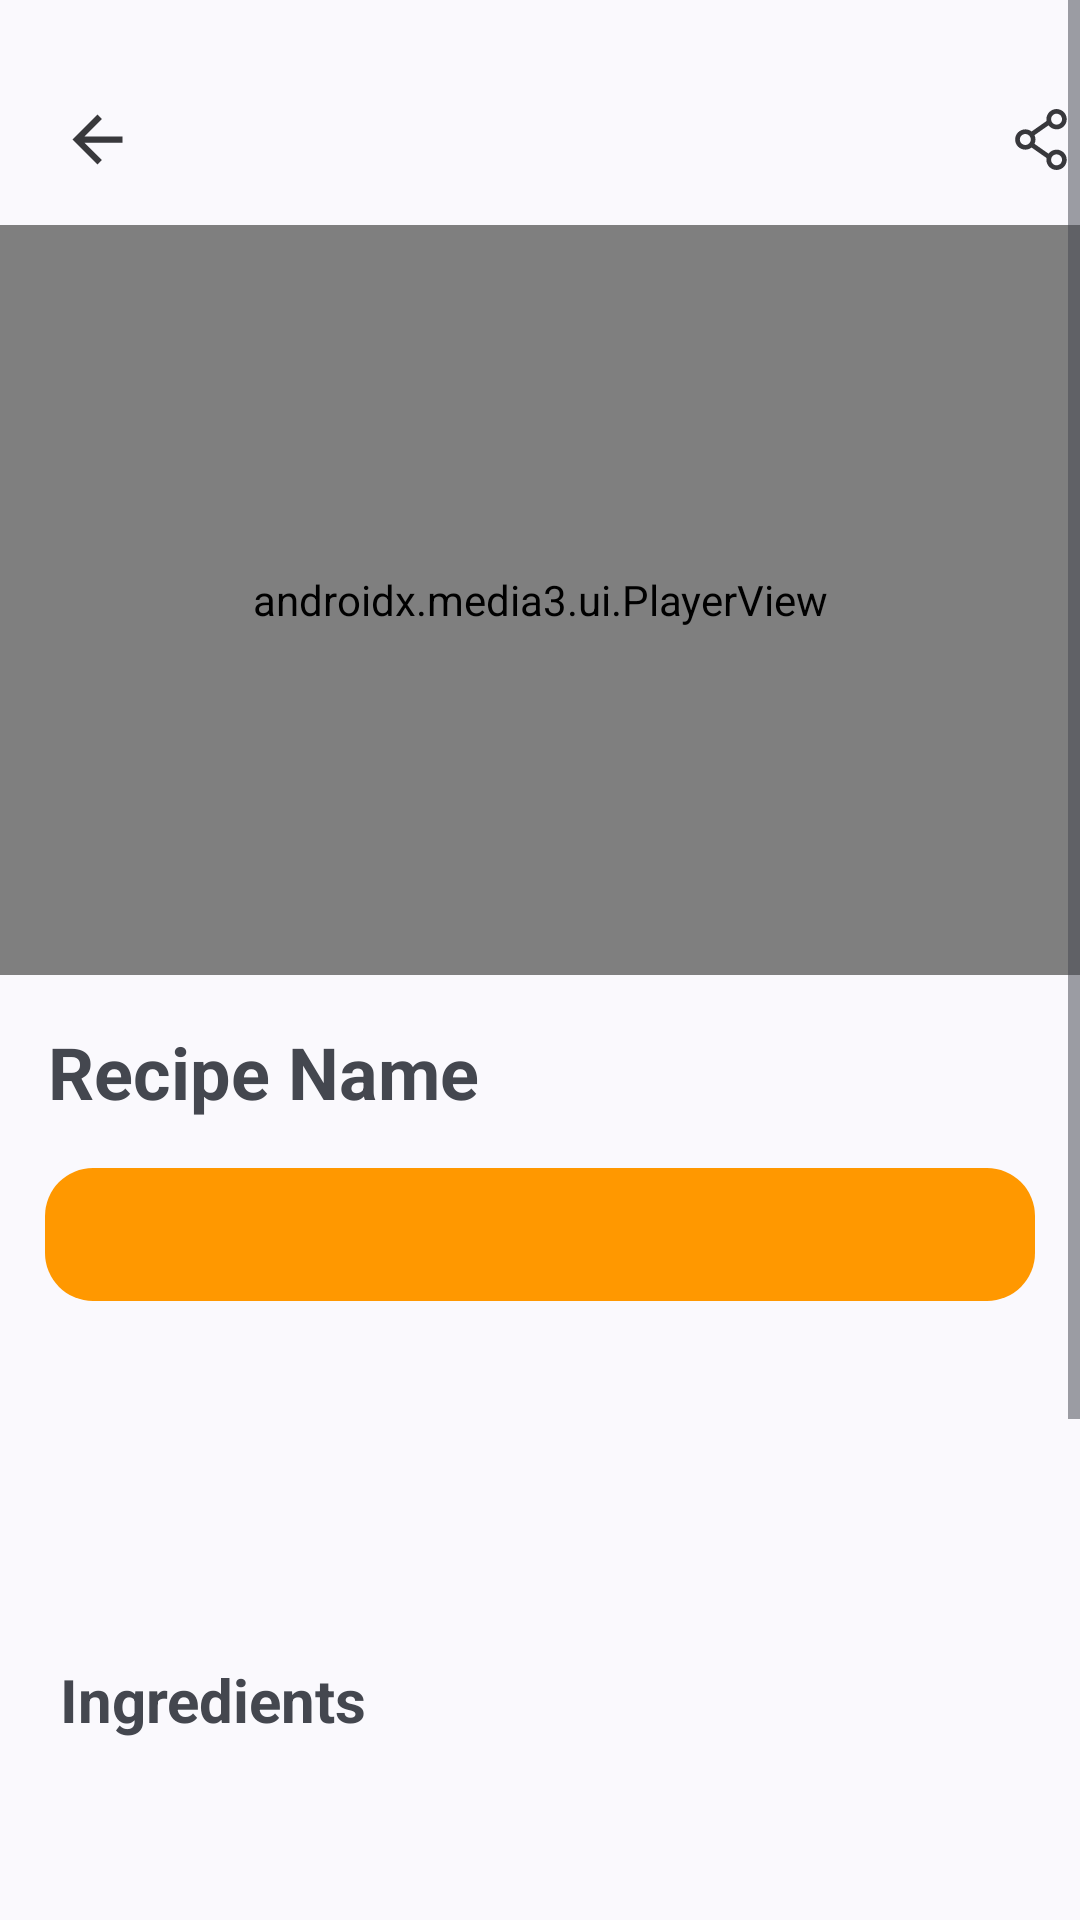

Named icons in this screenshot (1080px x 1920px) and their centers, [x,y]:
arrow back: [97,139]
share: [1041,139]
